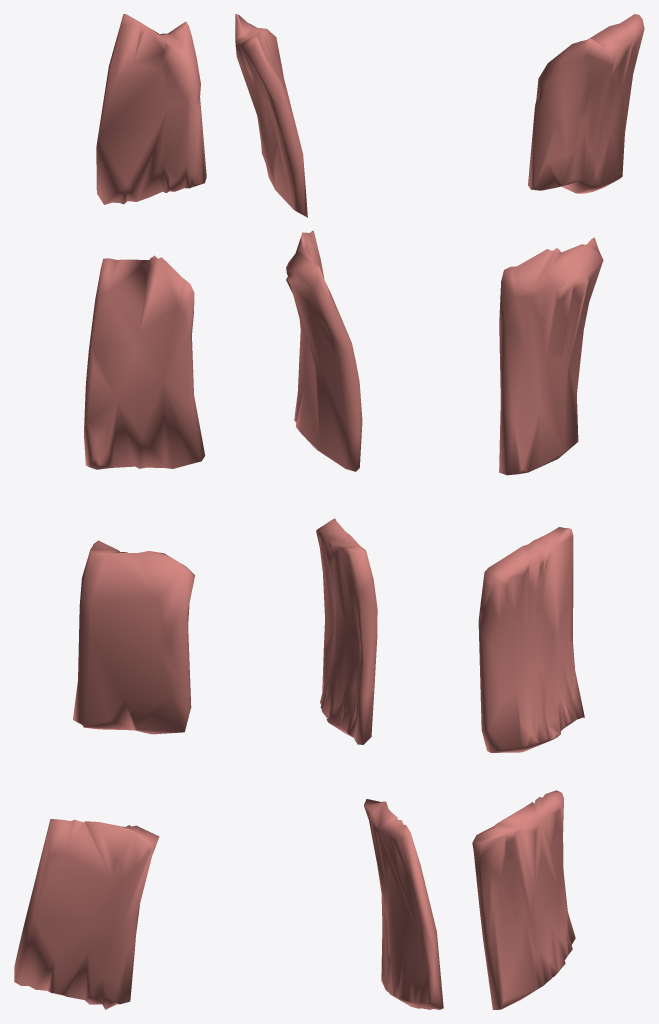
3 views of the same model, side by side, from view 1: azimuth 30°, elevation 25°; view 2: azimuth 150°, elevation 25°; view 3: azimuth 270°, elevation 25° (orthographic). The views are drawn at different scales.
Parts seen in each view (by area): view 1: ZA_4997e67cf3d441eb; view 2: ZA_4997e67cf3d441eb; view 3: ZA_4997e67cf3d441eb.
Part boxes in pixels (x1,y1,x2,y2): ZA_4997e67cf3d441eb: (14,14,206,1009); ZA_4997e67cf3d441eb: (235,14,443,1009); ZA_4997e67cf3d441eb: (472,14,644,1009).
Bounding box in the file's own units: 0.0241 × 0.1165 × 0.0175.
